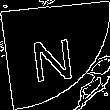N_N: (30, 27, 80, 83)
